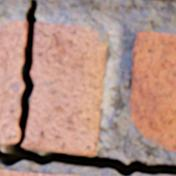brick: (130, 32, 175, 151), (0, 169, 75, 175)
broken_brick: (22, 22, 108, 155), (0, 21, 26, 145)
crack: (0, 0, 175, 175), (0, 23, 5, 31)
